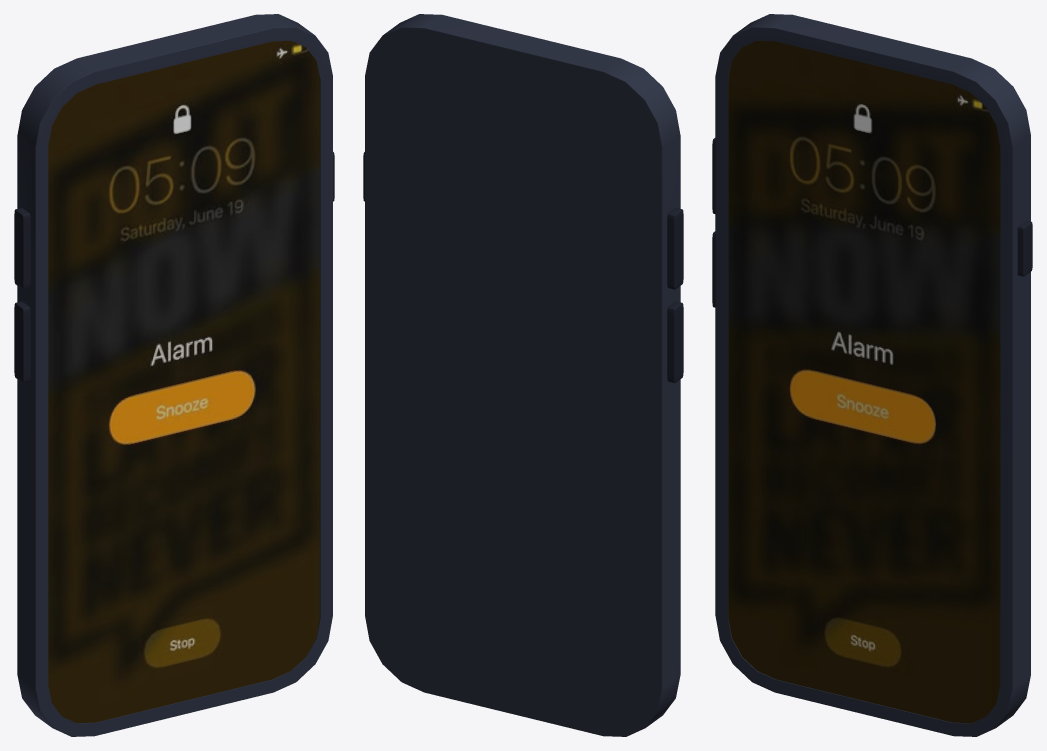
Rendered from phone.fbx.
3 views of the same model, side by side, from view 1: azimuth 30°, elevation 25°; view 2: azimuth 150°, elevation 25°; view 3: azimuth 330°, elevation 25° (orthographic).
Parts seen in each view (by area): view 1: phonebody, vol1, vol2; view 2: phonebody, vol1, vol2; view 3: phonebody, power.
Boxes of the visible parts, <box> form: phonebody: <box>17,14,332,736</box>; vol1: <box>14,208,30,289</box>; vol2: <box>14,301,30,383</box>; phonebody: <box>365,14,680,736</box>; vol1: <box>667,208,683,289</box>; vol2: <box>667,301,683,383</box>; phonebody: <box>715,14,1030,736</box>; power: <box>1017,220,1032,276</box>.
Size of the model in its own units: 7.85 by 16 by 0.8.
